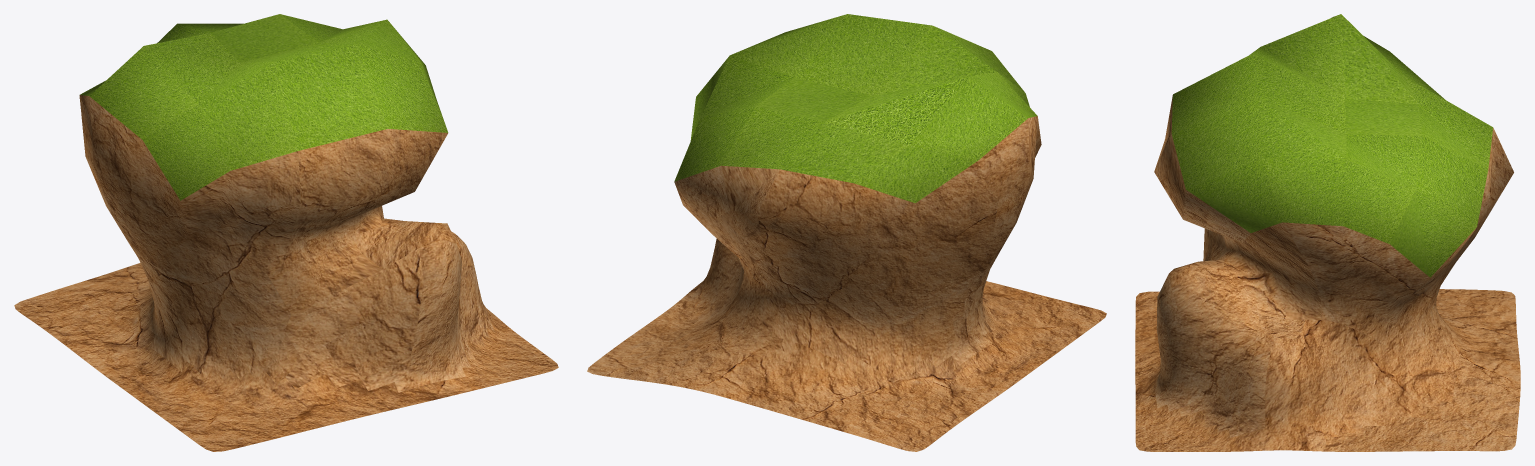
File: Montaña.obj
3 views of the same model, side by side, from view 1: azimuth 30°, elevation 25°; view 2: azimuth 150°, elevation 25°; view 3: azimuth 270°, elevation 25° (orthographic). The views are drawn at different scales.
Parts seen in each view (by area): view 1: Plane; view 2: Plane; view 3: Plane.
Part boxes in pixels (<box>): Plane: <box>14,14,558,451</box>; Plane: <box>587,14,1106,451</box>; Plane: <box>1135,14,1520,451</box>.
Size of the model in its own units: 48.75 by 39.93 by 47.06.
Materials: 2 (2 with a texture image).
